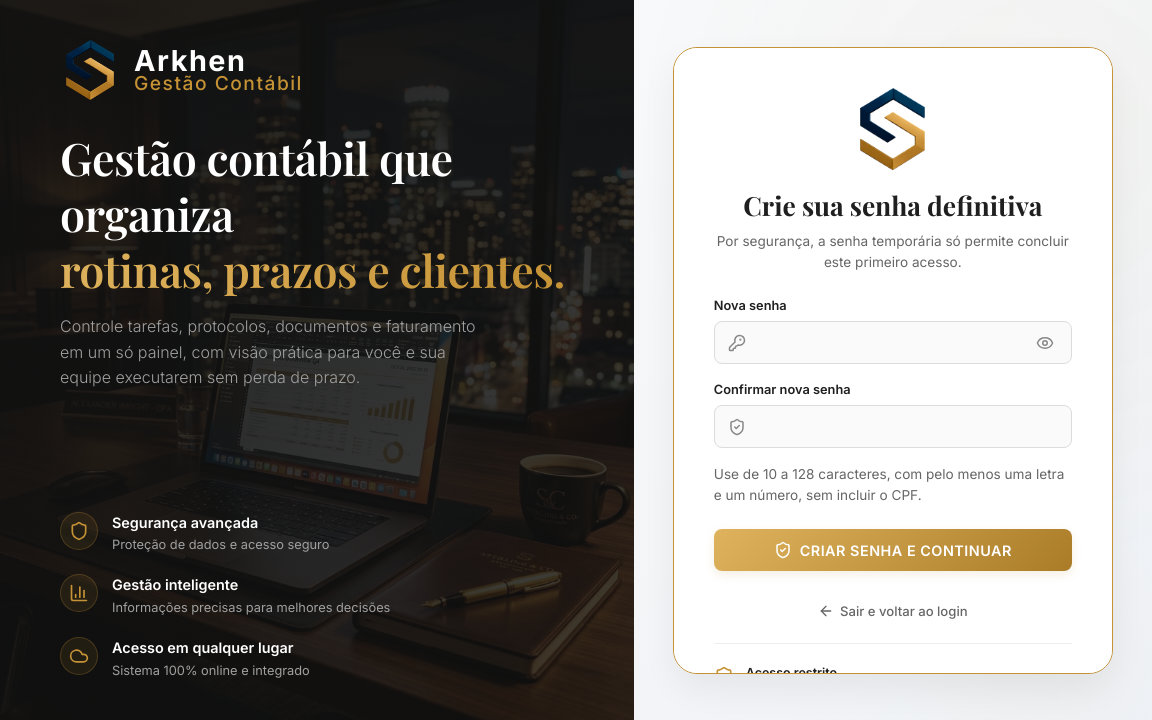
Test case: MandatoryPasswordChangePage › rejeita senha curta pela política de senha do funcionário
Type "abc123" into the password field labelled "Nova senha" at (893, 343), box [714, 321, 1072, 364]
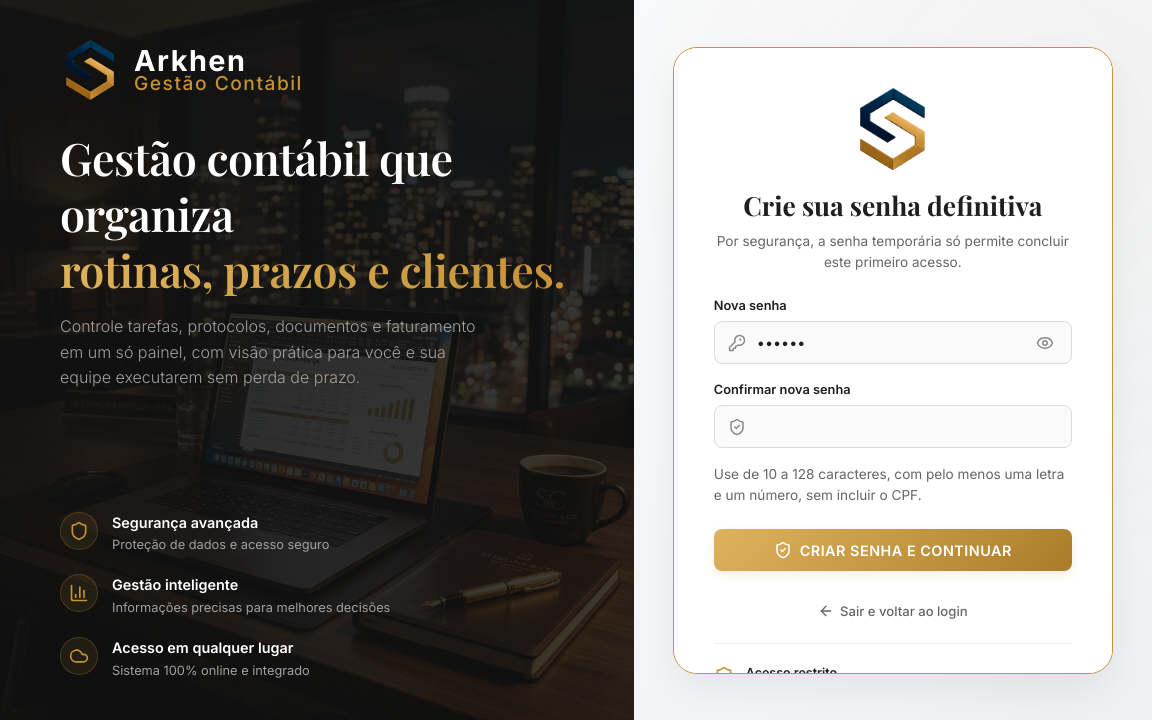
Type "abc123" into the password field labelled "Confirmar nova senha" at (893, 427), box [714, 405, 1072, 448]
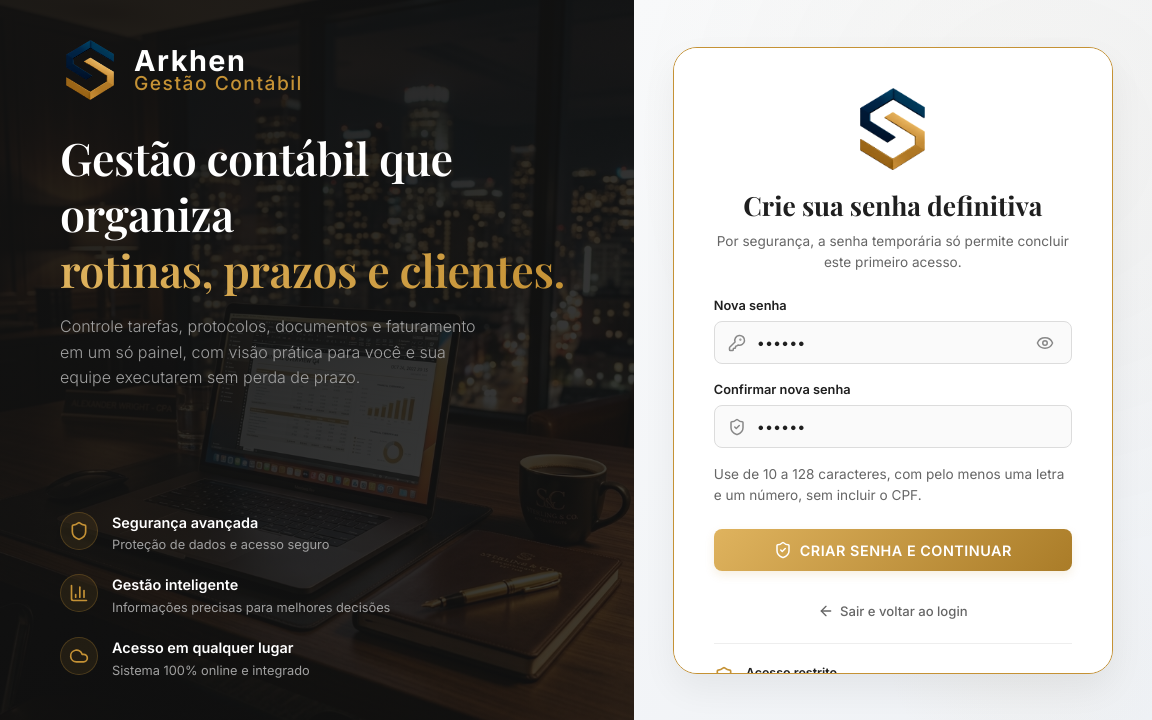
Click the button "CRIAR SENHA E CONTINUAR" at (893, 550), box [714, 529, 1072, 571]
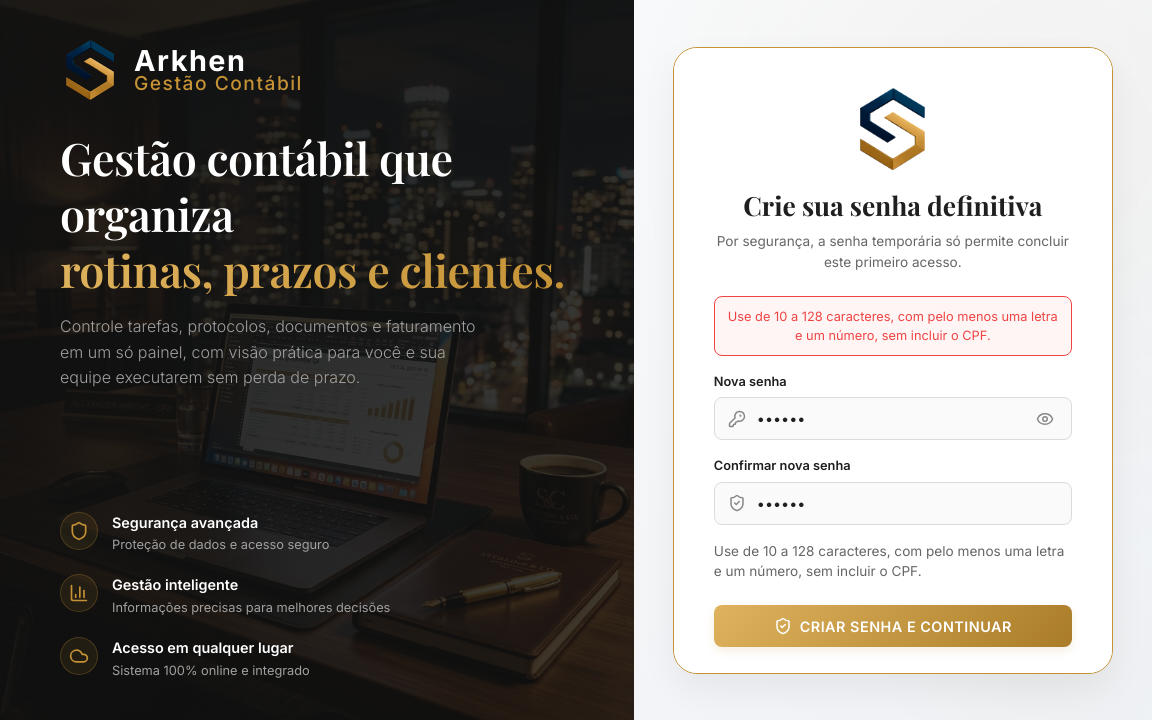
Expected: the message shows "10 a 128 caracteres", [728, 309, 1058, 343]
